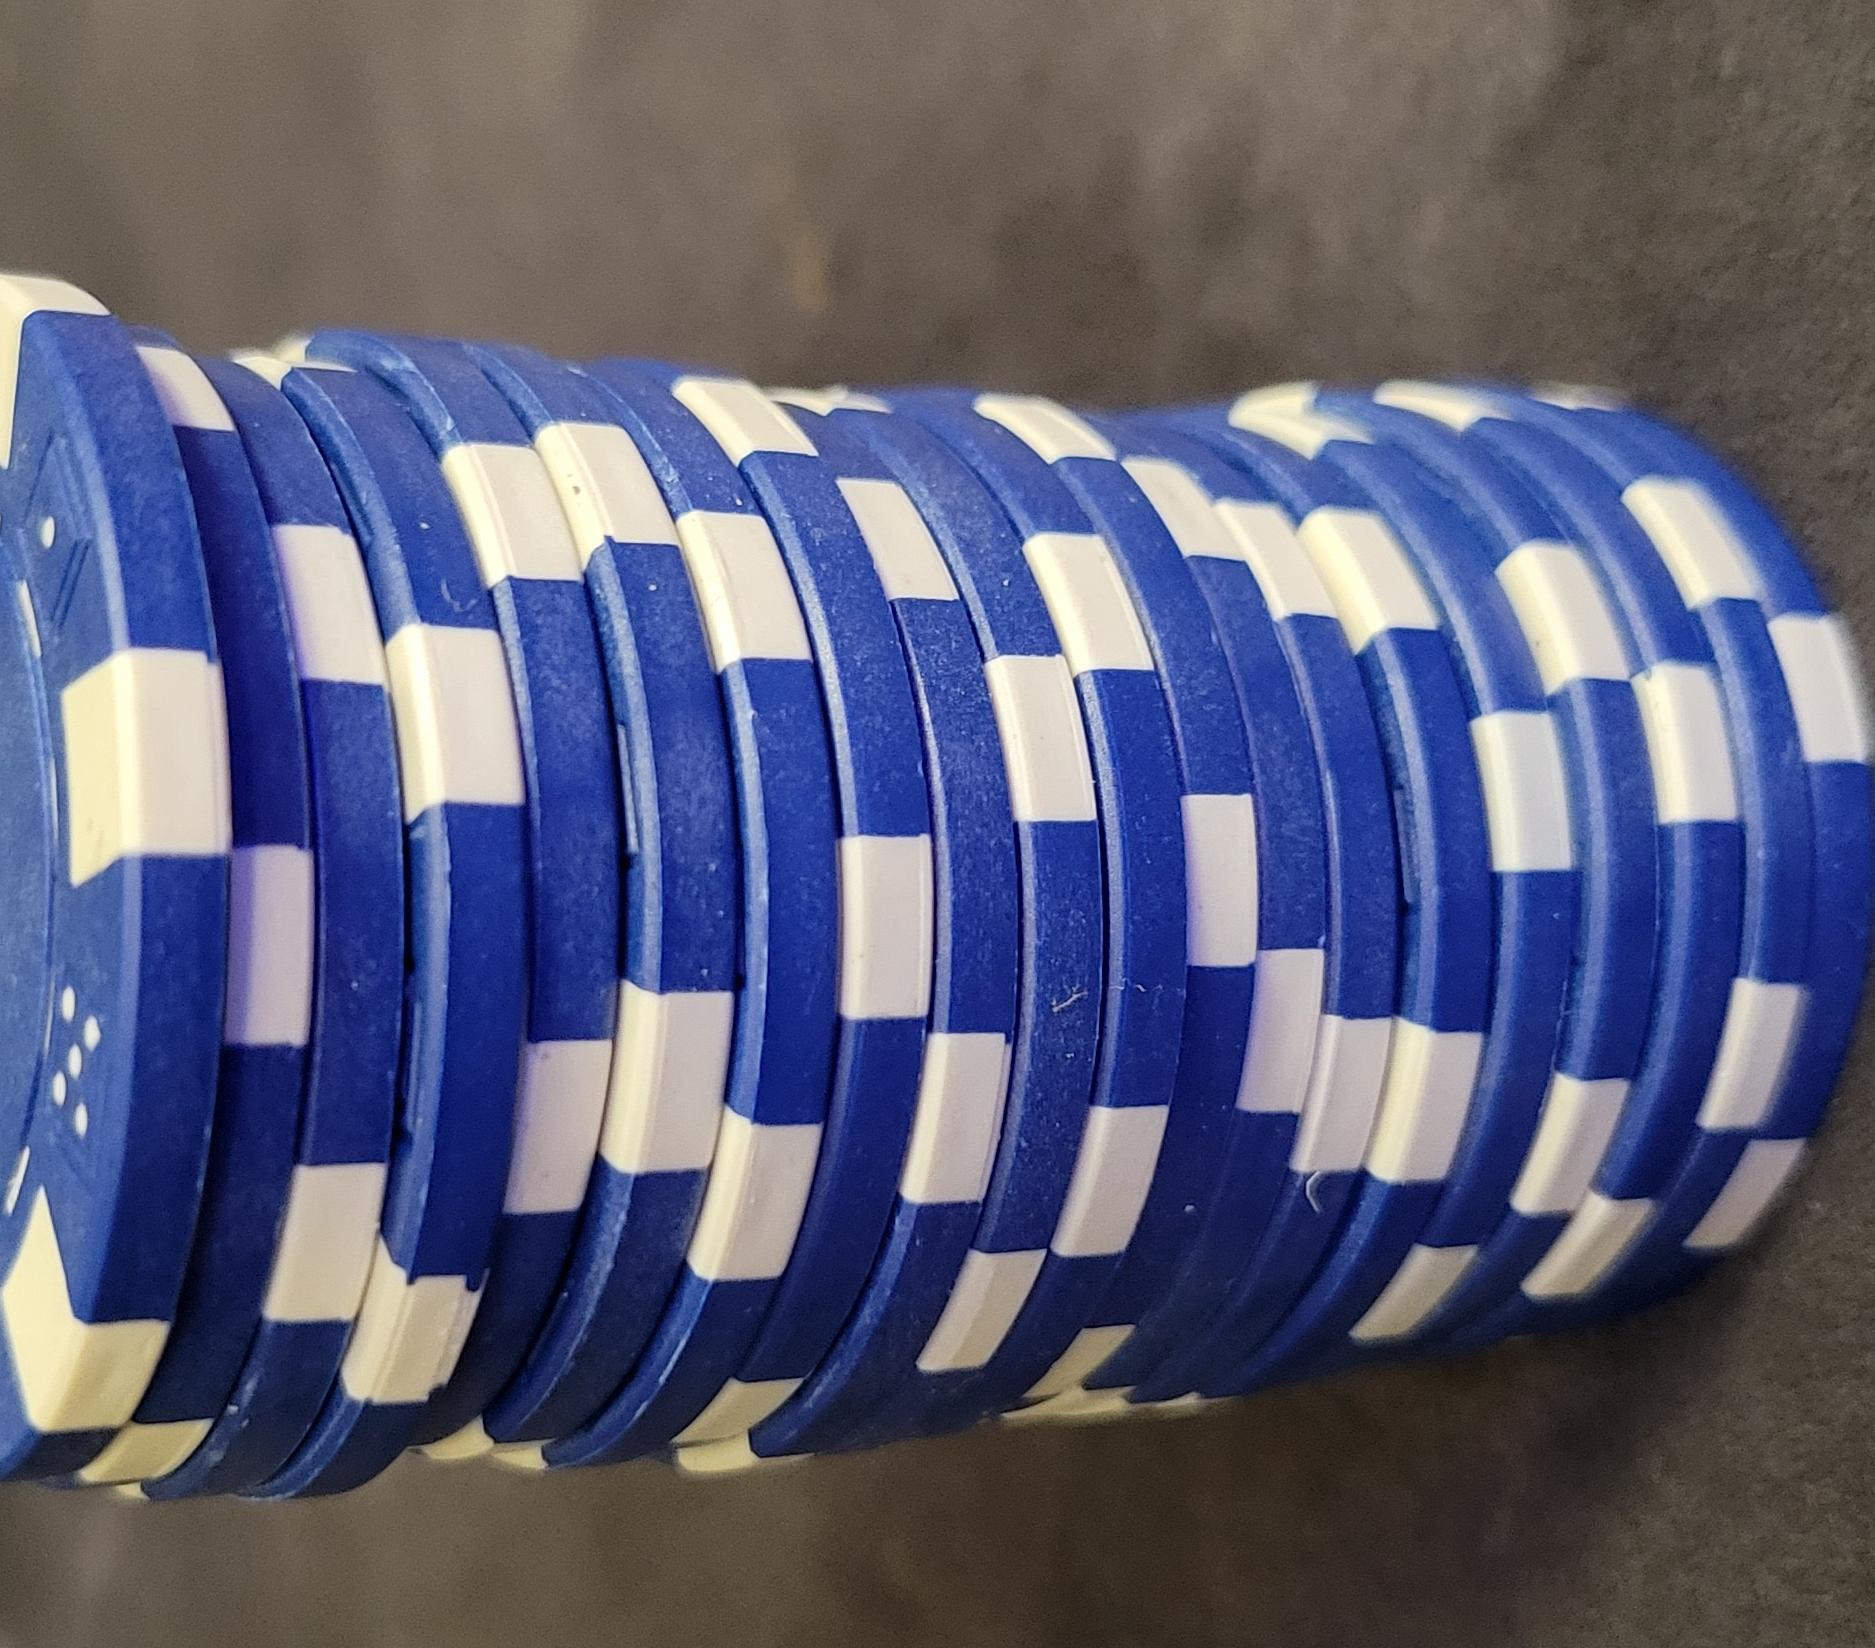Chip: (2, 202, 1130, 1648)
